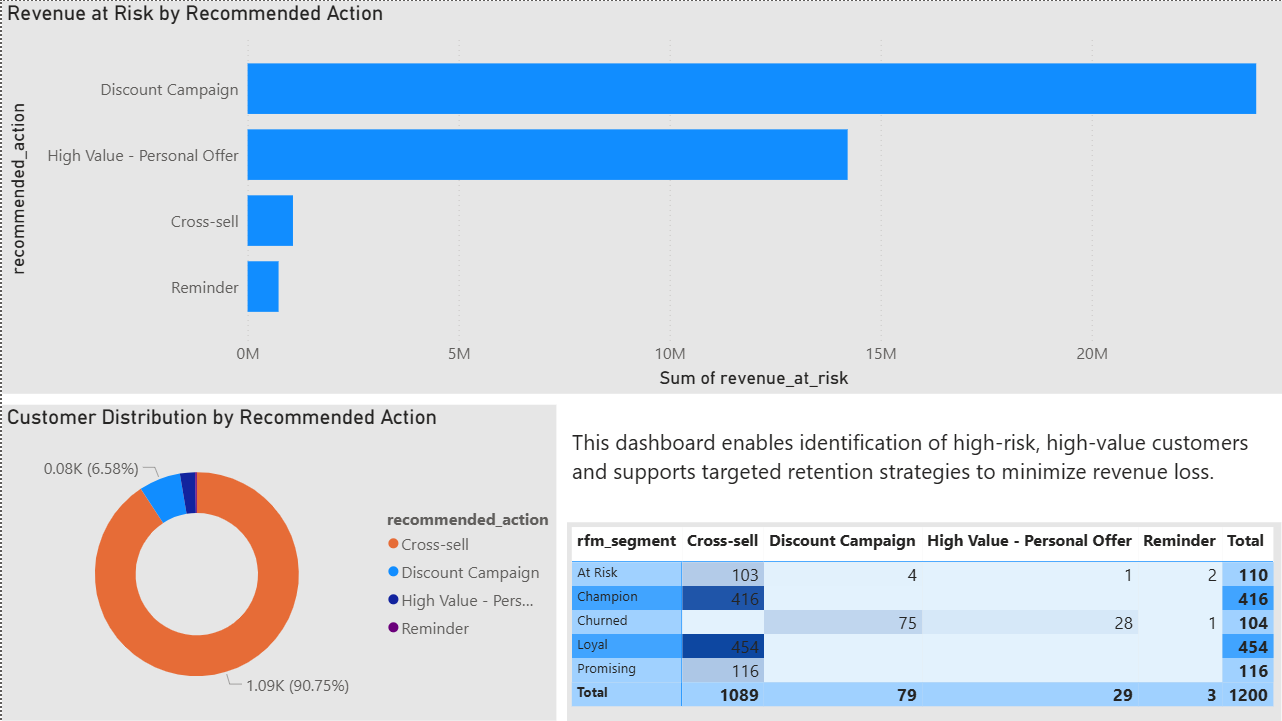

This screenshot's page, from the dashboard's own definition file:
{"tool":"powerbi","page":{"name":"Action Strategy","canvas":[1280,720],"ordinal":2},"visuals":[{"type":"barChart","title":"Revenue at Risk by Recommended Action","fields":{"Y":["Sum(customer_business_view.revenue_at_risk)"],"Category":["customer_business_view.recommended_action"]},"box":[0,0,1279.7,392.4],"z":0},{"type":"donutChart","title":"Customer Distribution by Recommended Action","fields":{"Category":["customer_business_view.recommended_action"],"Y":["CountNonNull(customer_business_view.customer_id)"]},"box":[0,404,554,316],"z":1000},{"type":"pivotTable","fields":{"Rows":["customer_business_view.rfm_segment"],"Columns":["customer_business_view.recommended_action"],"Values":["CountNonNull(customer_business_view.customer_id)"]},"box":[565.6,520.8,714.2,199.1],"z":2000},{"type":"textbox","box":[565.6,404,714.2,95.2],"z":2001}]}

Visuals, with their boxes in screenshot pixels (x1, y1, x2, y2), scaled from the page's 1280x720 canvas onto the 1282x721 screenshot:
"Revenue at Risk by Recommended Action" barChart: [0, 0, 1281, 393]
"Customer Distribution by Recommended Action" donutChart: [0, 405, 555, 720]
pivotTable - customer_business_view.rfm_segment x customer_business_view.recommended_action: [566, 522, 1281, 720]
textbox: [566, 405, 1281, 500]
